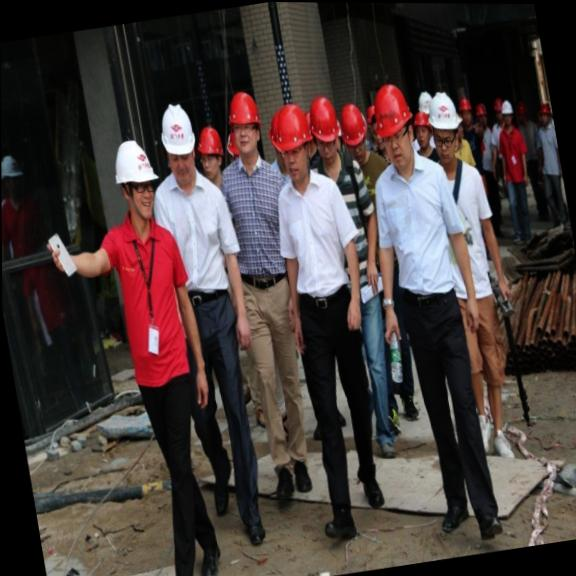no_safety_vest: (368, 159, 466, 326), (105, 229, 195, 400), (279, 168, 357, 326), (154, 166, 233, 309)
safety_vest: (304, 86, 343, 150), (334, 91, 368, 152)
